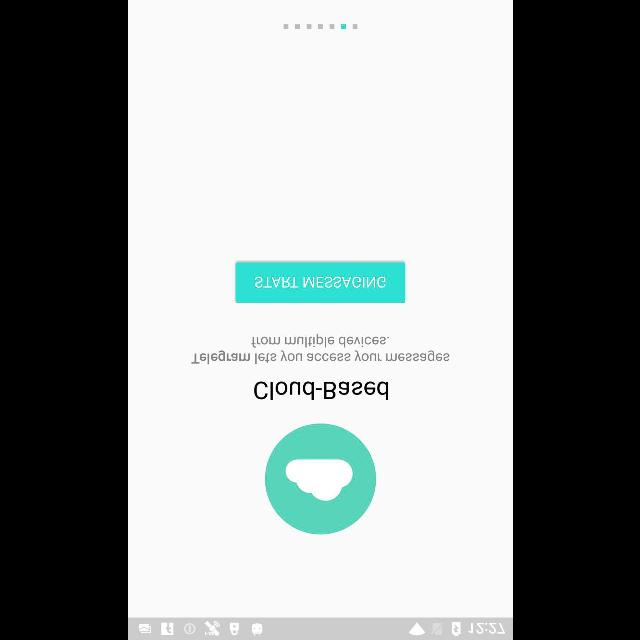image: (264, 424, 374, 534)
pageindicator: (282, 24, 358, 30)
text: (190, 333, 450, 365), (254, 380, 388, 400)
textbutton: (235, 262, 405, 304)
uppertaskbar: (128, 617, 512, 639)
